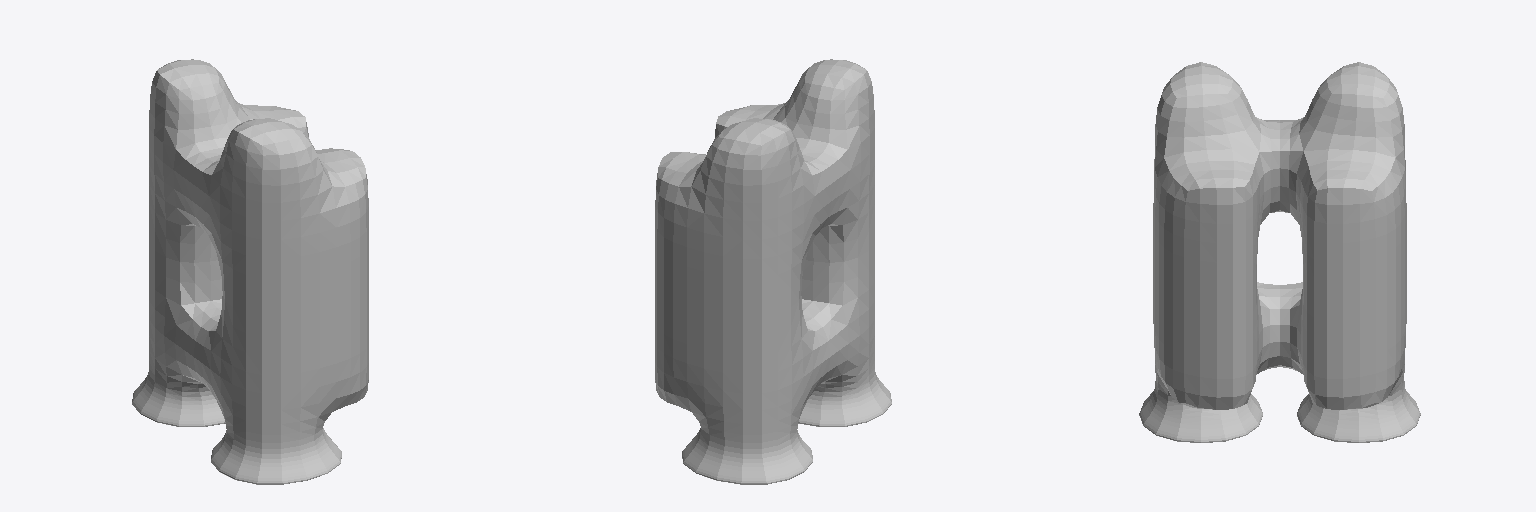
Rendered from jetpack.obj.
3 renders of one model, left to right at view 1: azimuth 30°, elevation 25°; view 2: azimuth 150°, elevation 25°; view 3: azimuth 270°, elevation 25°, orthographic.
Parts seen in each view (by area): view 1: Cube; view 2: Cube; view 3: Cube.
Part boxes in pixels (x1,y1,x2,y2): Cube: (132, 59, 368, 484); Cube: (655, 59, 891, 484); Cube: (1139, 62, 1420, 442).
Bounding box in the file's own units: 0.4455 × 0.9447 × 0.7118.